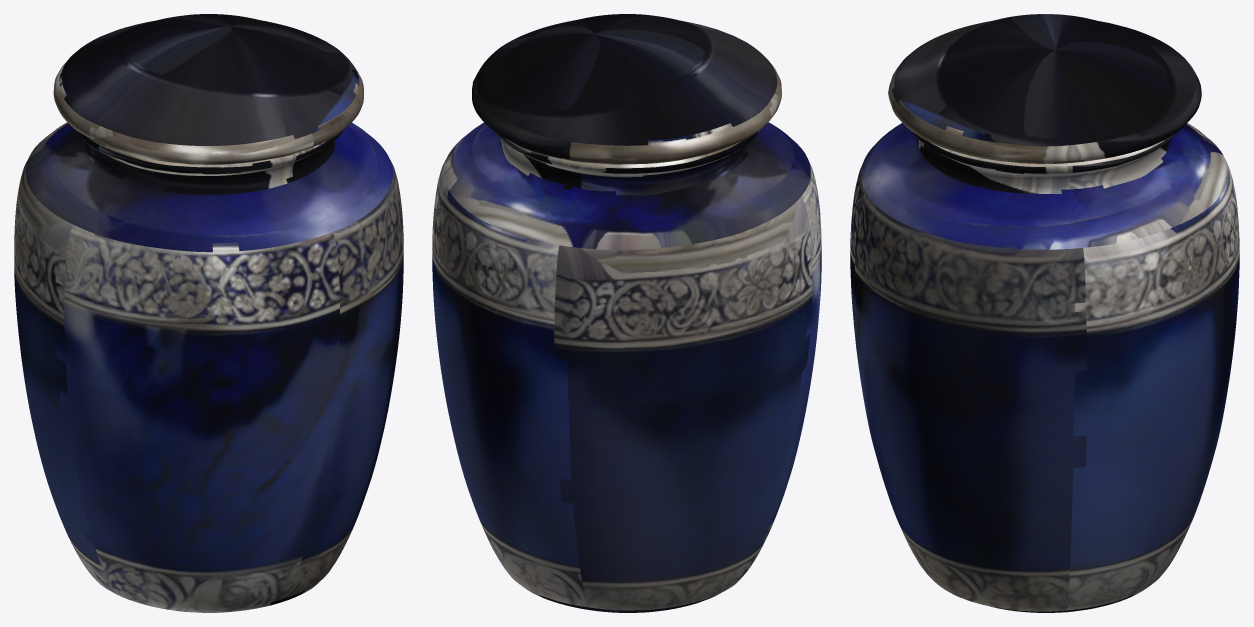
Rendered from Rose_Elegance_1119090936.obj.
3 views of the same model, side by side, from view 1: azimuth 30°, elevation 25°; view 2: azimuth 150°, elevation 25°; view 3: azimuth 270°, elevation 25° (orthographic).
Visible parts, largest first — view 1: Rose_Elegance_1119090936; view 2: Rose_Elegance_1119090936; view 3: Rose_Elegance_1119090936.
Boxes of the visible parts, box(x1,y1,x2,y2) form: Rose_Elegance_1119090936: box(14, 14, 403, 612); Rose_Elegance_1119090936: box(432, 14, 821, 612); Rose_Elegance_1119090936: box(850, 14, 1239, 612).
Bounding box in the file's own units: 1.33 × 2 × 1.33.
